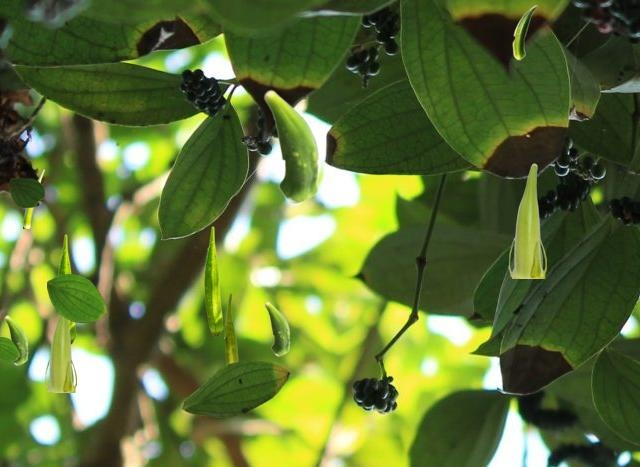okra: (263, 89, 319, 203), (508, 163, 545, 277), (44, 314, 75, 391), (57, 234, 75, 344), (204, 226, 222, 336), (264, 301, 289, 355), (512, 5, 536, 59), (23, 169, 43, 227), (4, 315, 27, 364), (224, 293, 237, 365)
